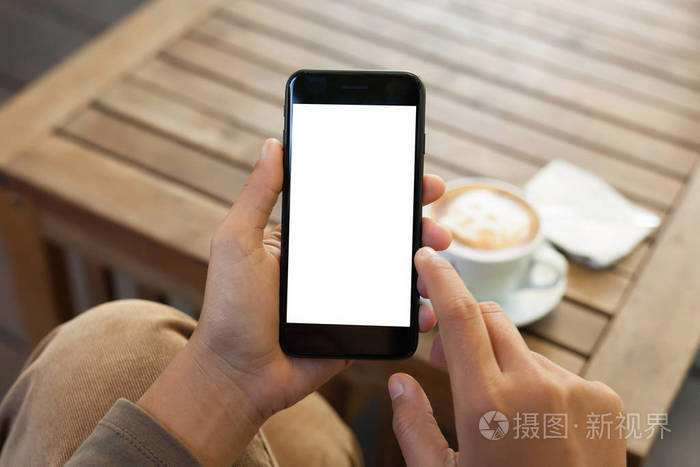reading: (179, 61, 633, 464)
